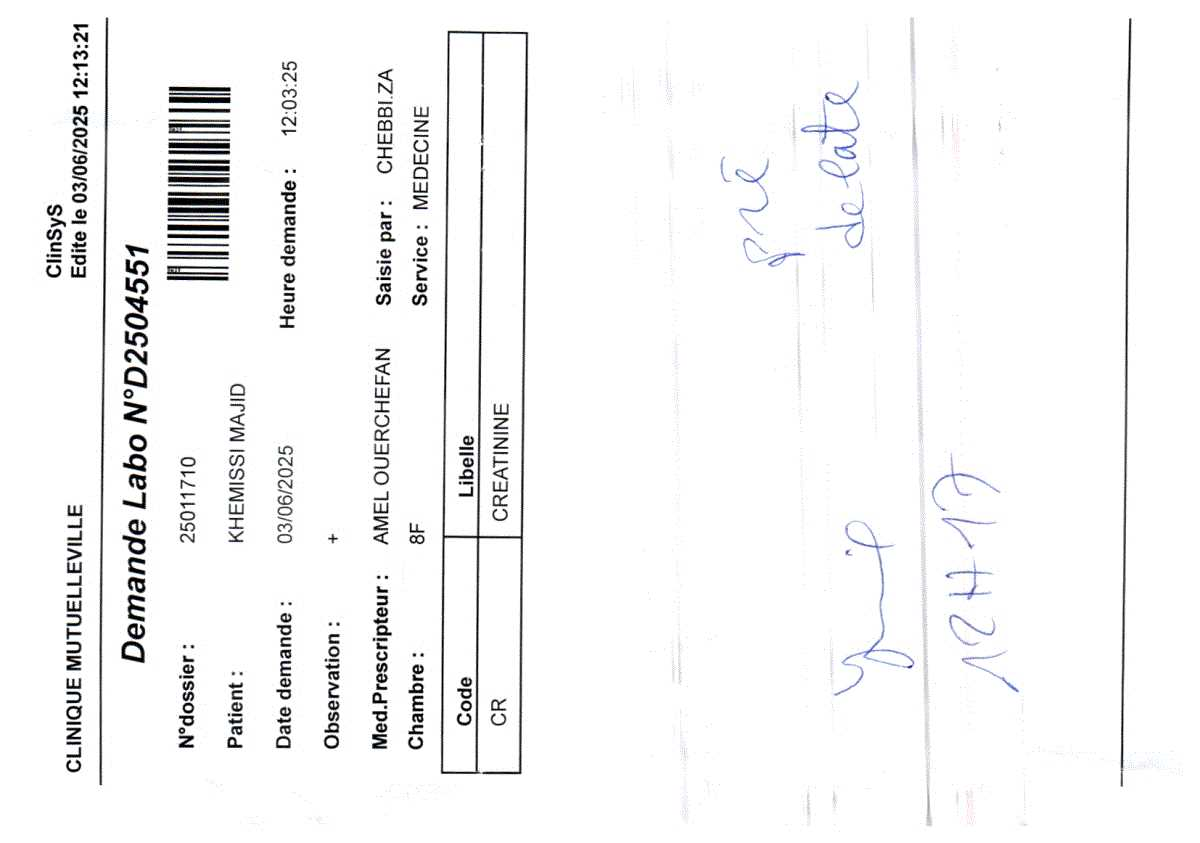zone_analyses: (442, 56, 1024, 781)
zone_date: (266, 425, 302, 546)
zone_patient: (212, 381, 250, 752)
zone_prescripteur: (362, 344, 392, 746)
